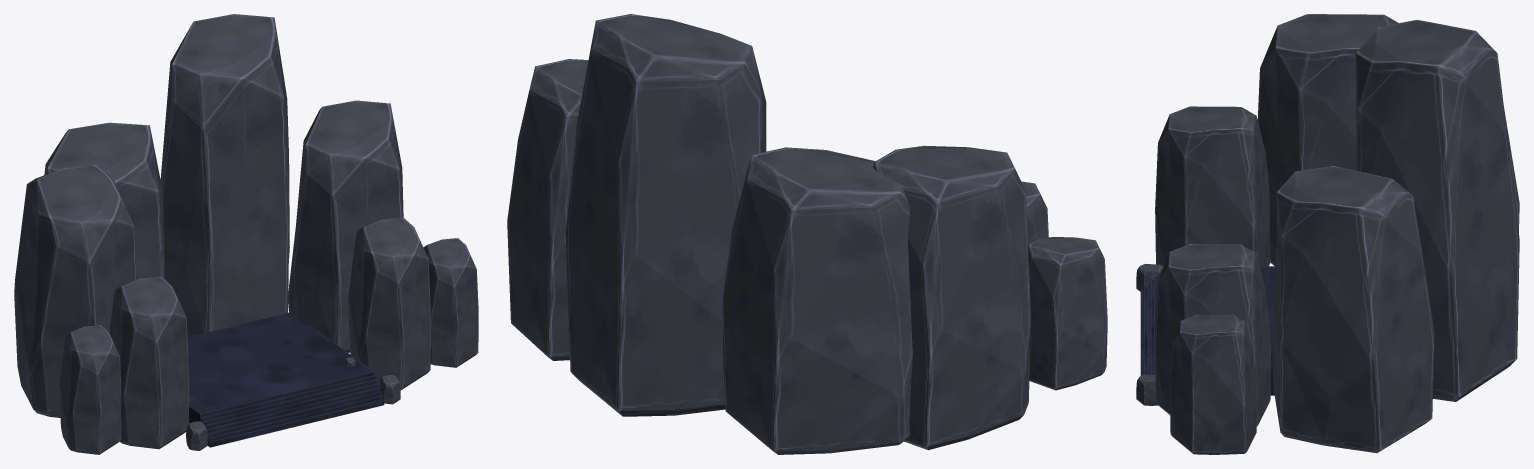
The model's file is Dungeon_giris.fbx.
3 views of the same model, side by side, from view 1: azimuth 30°, elevation 25°; view 2: azimuth 150°, elevation 25°; view 3: azimuth 270°, elevation 25° (orthographic). The views are drawn at different scales.
Parts seen in each view (by area): view 1: stone_lp.001, stone_lp.003, stone_lp.002, merdiven_lp, stone_lp.009, stone_lp.007, stone_lp, stone_lp.008, stone_lp.010, stone_lp.011, stone_lp.012; view 2: stone_lp.001, stone_lp, stone_lp.003, stone_lp.002, stone_lp.008, stone_lp.007; view 3: stone_lp.001, stone_lp.002, stone_lp.003, stone_lp.007, stone_lp.010, stone_lp.009, merdiven_lp, stone_lp.012, stone_lp.011, stone_lp.
Part boxes in pixels (<box>): stone_lp.001: <box>160,14,289,336</box>; stone_lp.003: <box>14,165,136,417</box>; stone_lp.002: <box>288,100,403,352</box>; merdiven_lp: <box>187,312,384,447</box>; stone_lp.009: <box>348,217,430,389</box>; stone_lp.007: <box>109,276,189,449</box>; stone_lp: <box>44,122,164,279</box>; stone_lp.008: <box>59,325,121,454</box>; stone_lp.010: <box>423,238,478,367</box>; stone_lp.011: <box>186,421,207,450</box>; stone_lp.012: <box>379,374,400,404</box>; stone_lp.001: <box>565,14,766,416</box>; stone_lp: <box>722,147,912,454</box>; stone_lp.003: <box>873,145,1031,450</box>; stone_lp.002: <box>507,59,588,360</box>; stone_lp.008: <box>1028,237,1107,390</box>; stone_lp.007: <box>1022,181,1048,246</box>; stone_lp.001: <box>1355,19,1519,401</box>; stone_lp.002: <box>1272,166,1434,453</box>; stone_lp.003: <box>1257,14,1398,265</box>; stone_lp.007: <box>1155,106,1270,266</box>; stone_lp.010: <box>1169,315,1256,454</box>; stone_lp.009: <box>1155,244,1270,426</box>; merdiven_lp: <box>1140,266,1274,395</box>; stone_lp.012: <box>1136,374,1158,405</box>; stone_lp.011: <box>1136,263,1163,291</box>; stone_lp: <box>1355,74,1519,232</box>.
Bounding box in the file's own units: 3303 × 2276 × 2294.
2 materials, 2 textured.
